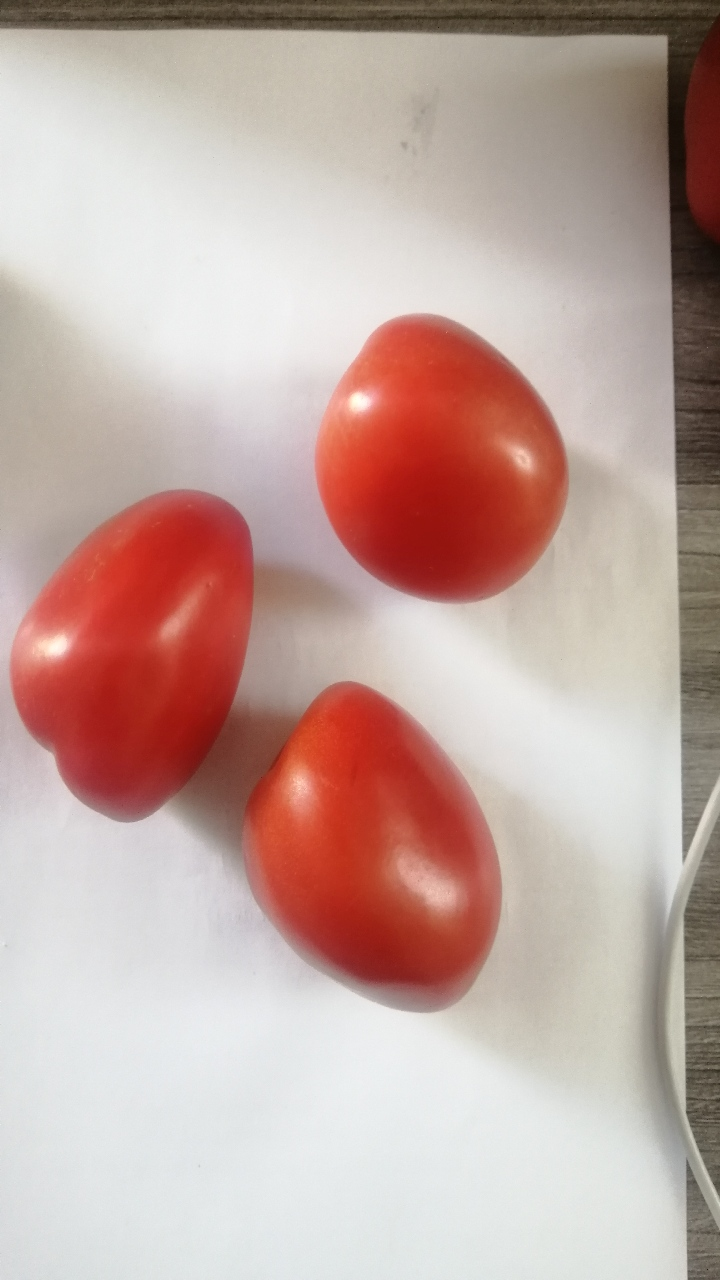tomateRojo: (217, 668, 517, 1025), (275, 272, 586, 612), (3, 469, 263, 855)
